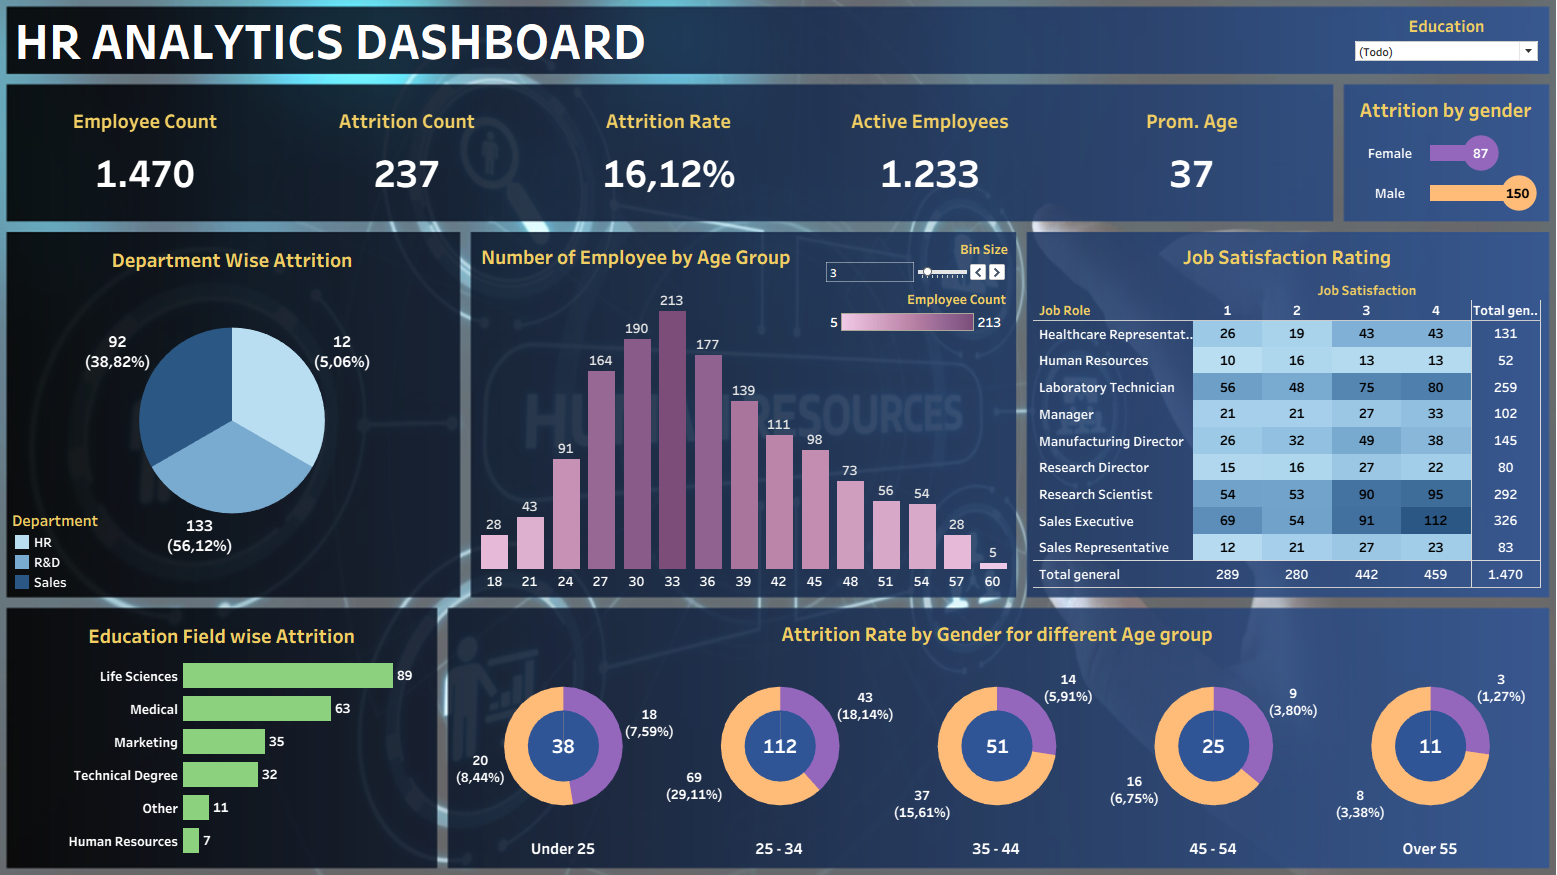

The dashboard page shown, as its layout file describes it:
{"tool":"tableau","page":{"name":"HR ANALYTICS DASHBOARD","canvas":[1580,900],"ordinal":0},"visuals":[{"type":"image","param":"C:/Users/Jesus/Downloads/HR background.pptx.png","box":[8,8,1564,884]},{"type":"text","box":[24,24,650,55]},{"type":"filter","title":"Department Wise Attrition","param":"[federated.0xdo1zu1lz6pgl19oidjr0han4aj].[none:Education:nk]","box":[1364,27,189,49]},{"type":"worksheet","title":"Attrition by gender","mark":"Automatic","rows":["Gender"],"cols":["Calculation_1099722798718955520","Calculation_1099722798718955520"],"box":[1362,104,191,121]},{"type":"worksheet","title":"KPI","mark":"Automatic","box":[26,105,1309,118]},{"type":"worksheet","title":"Number of Employee by Age Group","mark":"Automatic","rows":["Employee Count"],"cols":["Age (agrupación)"],"box":[489,251,534,352]},{"type":"worksheet","title":"Job Satisfaction Rating","mark":"Square","rows":["Job Role"],"cols":["Job Satisfaction"],"box":[1045,251,508,349]},{"type":"parameter","param":"[Parameters].[Parámetro 1]","box":[835,252,185,48]},{"type":"worksheet","title":"Department Wise Attrition","mark":"Pie","box":[27,254,434,316]},{"type":"legend","title":"Number of Employee by Age Group","param":"[federated.0xdo1zu1lz6pgl19oidjr0han4aj].[sum:Employee Count:qk]","box":[838,302,180,76]},{"type":"legend","title":"Department Wise Attrition","param":"[federated.0xdo1zu1lz6pgl19oidjr0han4aj].[none:Department:nk]","box":[24,522,146,88]},{"type":"worksheet","title":"Attrition Rate by Gender for different Age group","mark":"Pie","rows":["Calculation_1403152824262234115","Calculation_1403152824262234115"],"cols":["CF_age band"],"box":[467,628,1084,244]},{"type":"worksheet","title":"Education Field wise Attrition","mark":"Automatic","rows":["Education Field"],"cols":["Calculation_1099722798718955520"],"box":[27,630,413,239]}]}

Visuals, with their boxes in screenshot pixels (x1, y1, x2, y2), scaled from the page's 1580x900 canvas onto the 1557x875 screenshot:
image: box(8, 8, 1549, 867)
text: box(24, 23, 664, 77)
"Department Wise Attrition" filter: box(1344, 26, 1530, 74)
"Attrition by gender" worksheet: box(1342, 101, 1530, 219)
"KPI" worksheet: box(26, 102, 1316, 217)
"Number of Employee by Age Group" worksheet: box(482, 244, 1008, 586)
"Job Satisfaction Rating" worksheet (Square marks): box(1030, 244, 1530, 583)
parameter: box(823, 245, 1005, 292)
"Department Wise Attrition" worksheet (Pie marks): box(27, 247, 454, 554)
"Number of Employee by Age Group" legend: box(826, 294, 1003, 368)
"Department Wise Attrition" legend: box(24, 508, 168, 593)
"Attrition Rate by Gender for different Age group" worksheet (Pie marks): box(460, 611, 1528, 848)
"Education Field wise Attrition" worksheet: box(27, 612, 434, 845)
